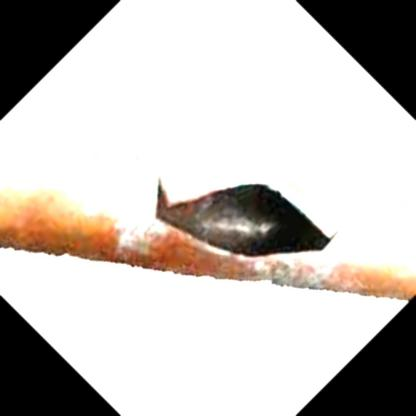burst: (147, 187, 350, 258)
